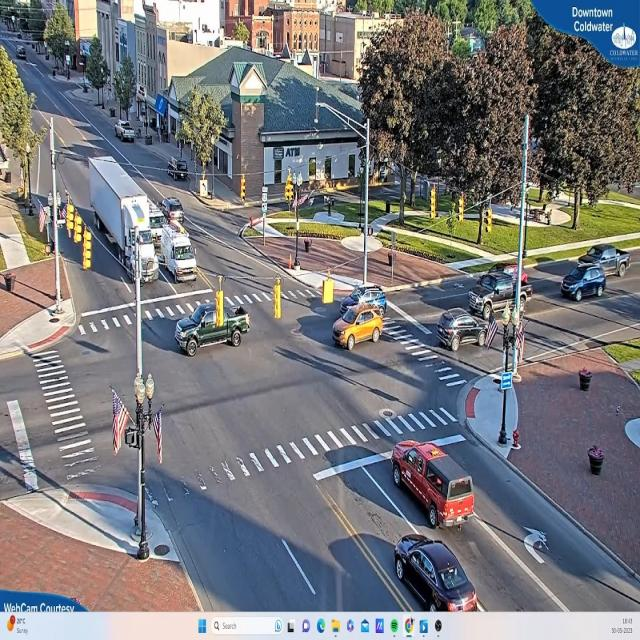car: (392, 439, 477, 530), (394, 535, 484, 611), (175, 303, 250, 355), (470, 273, 534, 318), (334, 306, 386, 349), (158, 229, 196, 282), (437, 311, 485, 350), (578, 245, 632, 276), (561, 265, 605, 301), (524, 529, 552, 556), (117, 122, 137, 145)
truck: (87, 158, 159, 285)
